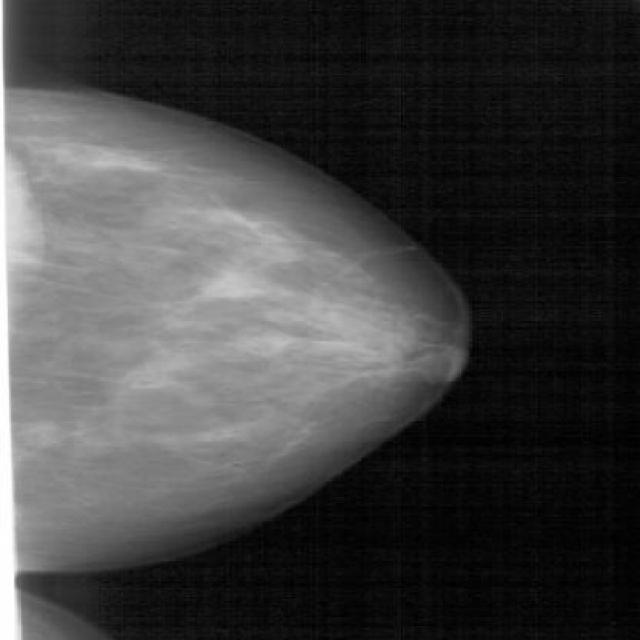tumor: (156, 230, 418, 412)
